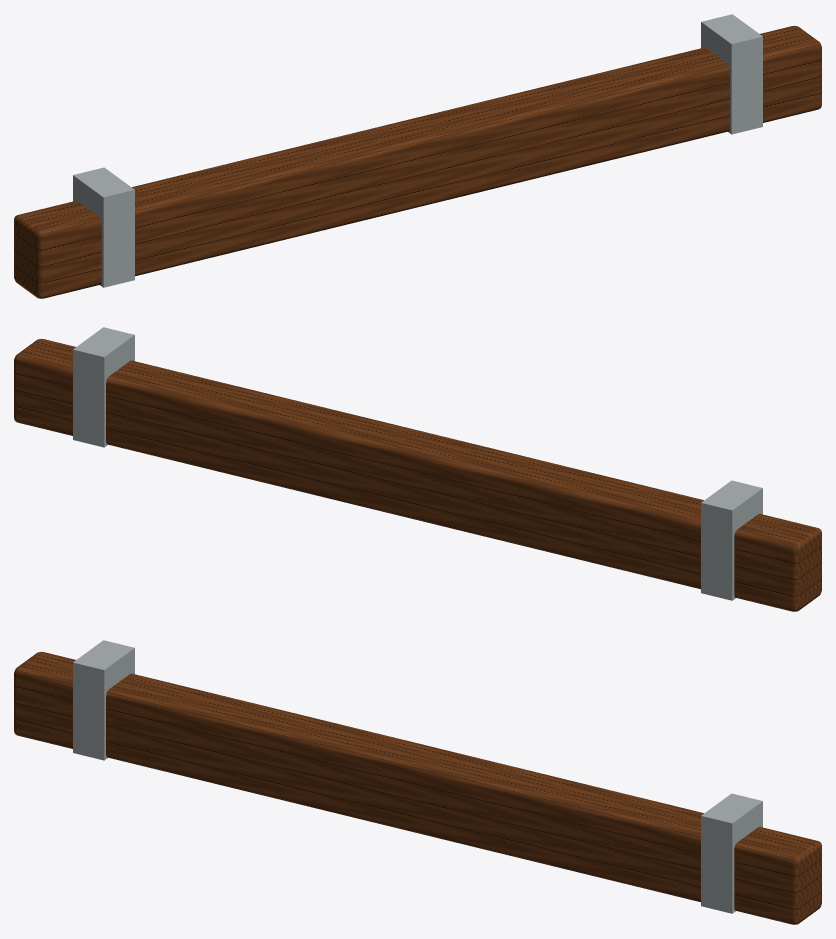
Rendered from modular-survival-base-builder-eaves-fascia-7bcfc951__24248.glb.
3 views of the same model, one above another, from view 1: azimuth 30°, elevation 25°; view 2: azimuth 150°, elevation 25°; view 3: azimuth 330°, elevation 25° (orthographic).
Visible parts, largest first — view 1: eaves-fascia; view 2: eaves-fascia; view 3: eaves-fascia.
Part boxes in pixels (left/top/right/bottom): eaves-fascia: left=14, top=14, right=821, bottom=298; eaves-fascia: left=14, top=327, right=821, bottom=611; eaves-fascia: left=14, top=640, right=821, bottom=924.
Bounding box in the file's own units: 2 × 0.2201 × 0.1349.
Materials: 2 (1 with a texture image).
